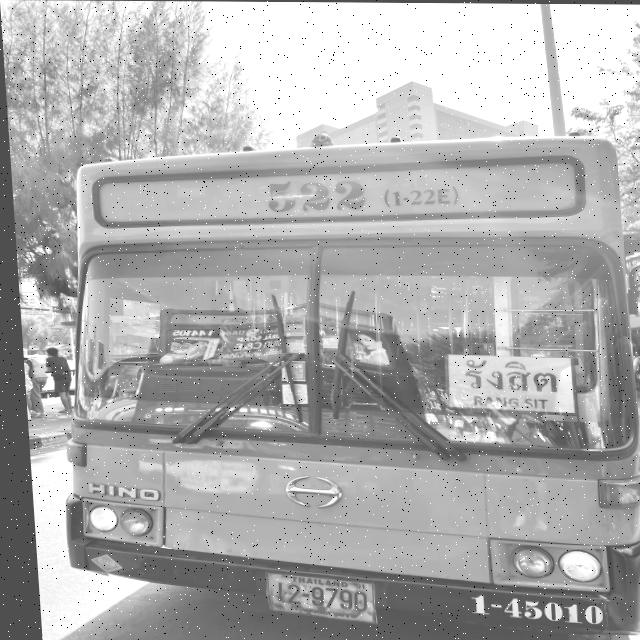BMTA-bus: (36, 128, 640, 640)
Bus-Line-Number: (252, 173, 475, 221)
Destination-Sign-Normal-Expressway: (444, 351, 571, 411)
